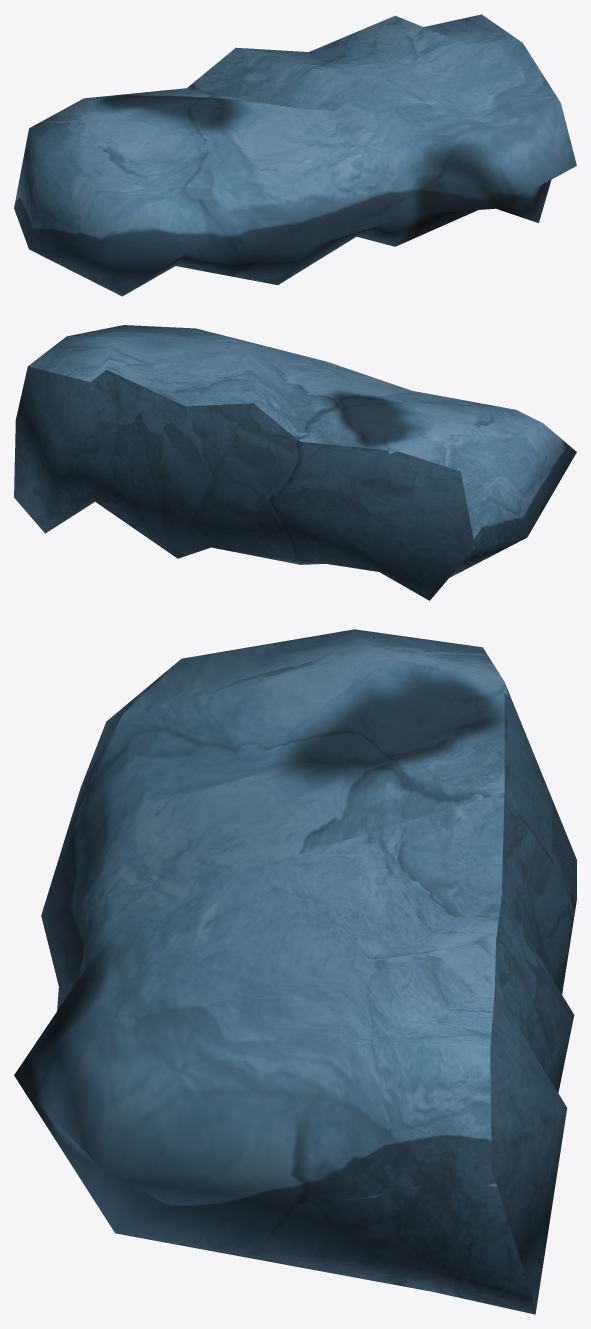
File: pedraAerolito.FBX
3 views of the same model, one above another, from view 1: azimuth 30°, elevation 25°; view 2: azimuth 150°, elevation 25°; view 3: azimuth 270°, elevation 25° (orthographic). The views are drawn at different scales.
Visible parts, largest first — view 1: Box001_02; view 2: Box001_02; view 3: Box001_02.
Part boxes in pixels (box(x1,y1,x2,y2)): Box001_02: box(14, 14, 576, 296); Box001_02: box(14, 325, 576, 600); Box001_02: box(14, 629, 576, 1314).
Bounding box in the file's own units: 28.21 × 9.55 × 14.59.
